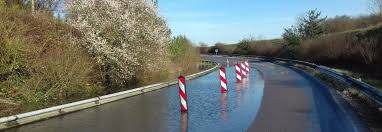obstacle: (176, 72, 193, 114), (216, 65, 233, 95), (234, 61, 242, 86), (240, 60, 247, 84), (244, 58, 250, 80)
